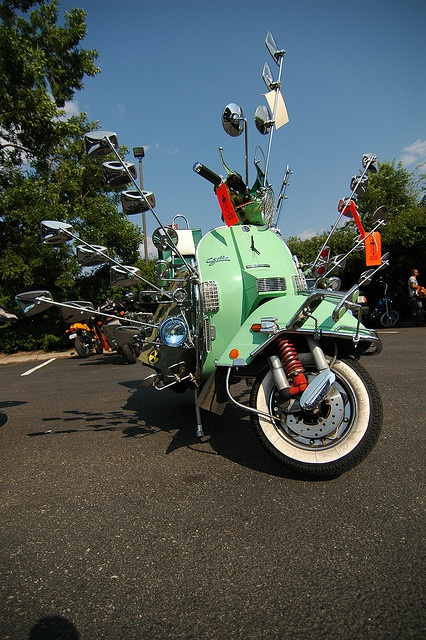non-vehicle: (132, 31, 400, 475), (93, 298, 146, 363), (360, 281, 401, 326), (68, 323, 102, 359)
